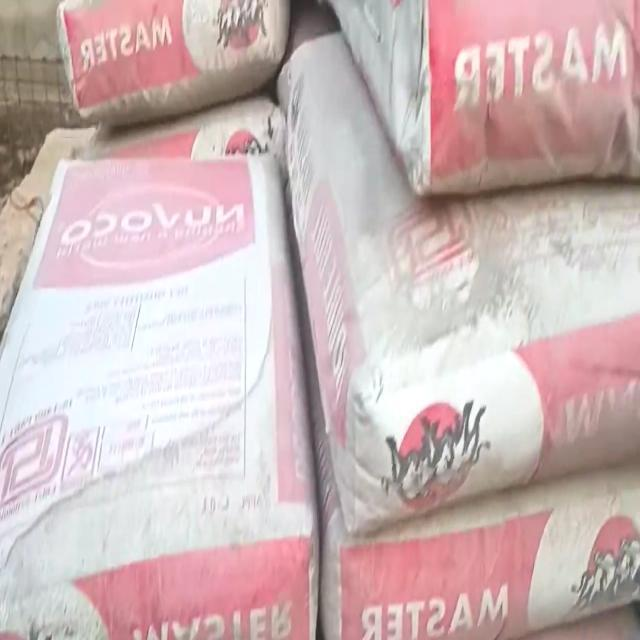gunny_bag: (279, 32, 640, 532), (0, 155, 317, 640), (332, 0, 640, 193), (56, 0, 289, 123)
